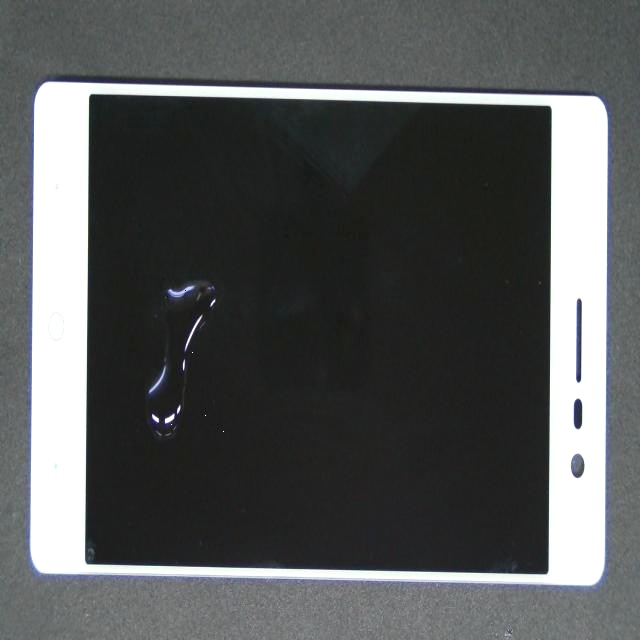oil: (90, 110, 251, 481)
